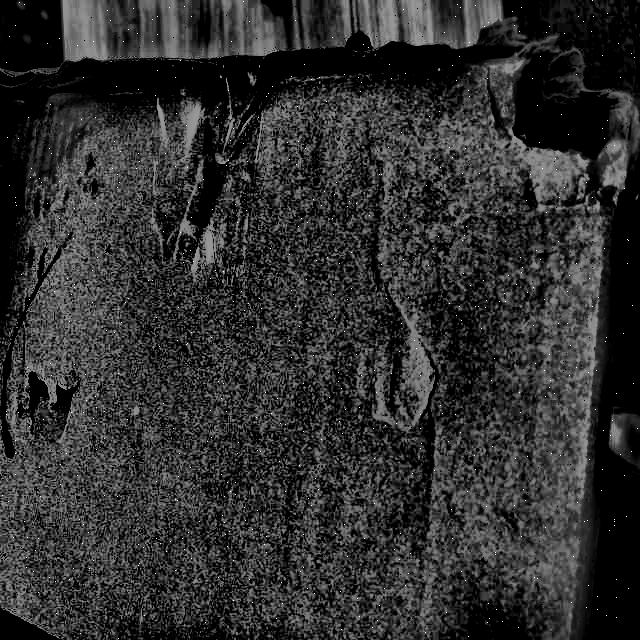box: (1, 1, 640, 640)
hole: (500, 44, 633, 170), (3, 357, 94, 449)
wet: (3, 87, 92, 239)
